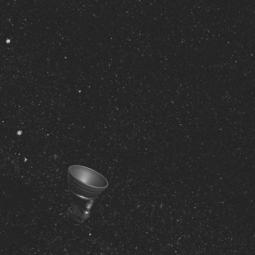debris: (61, 159, 112, 226)
